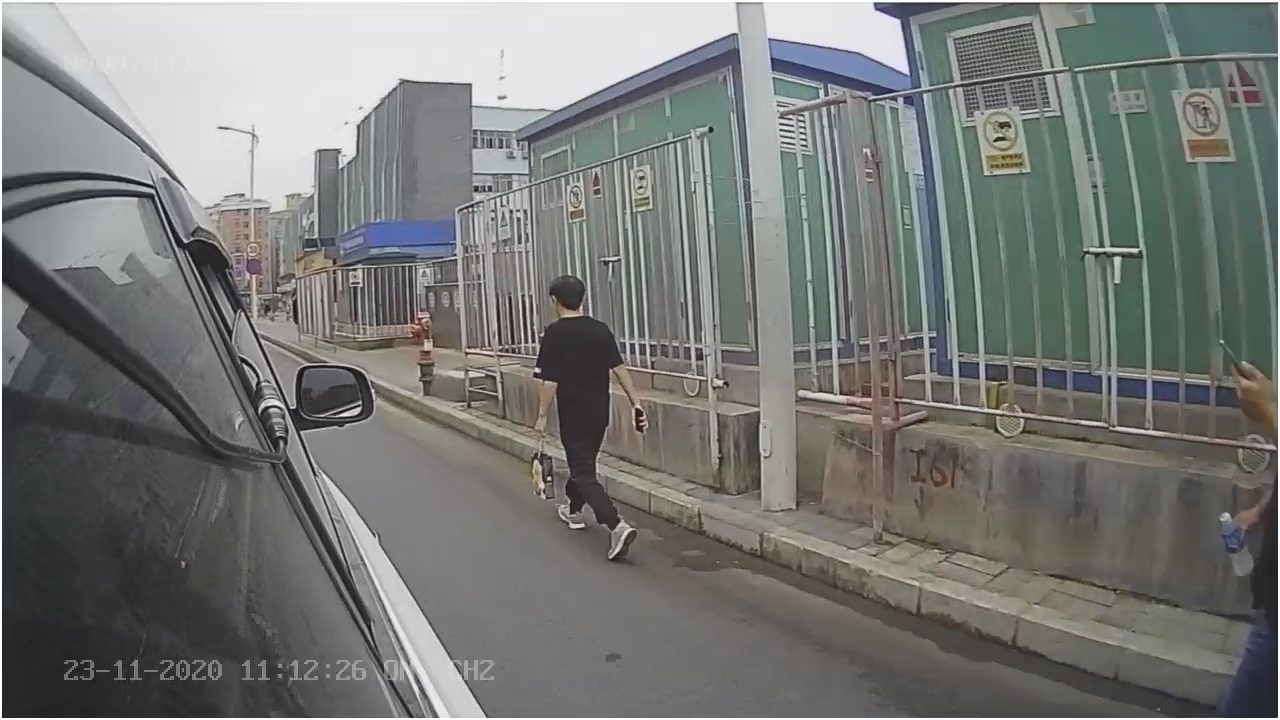person: (519, 270, 650, 586)
